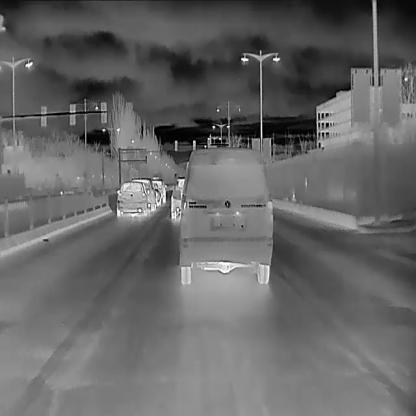car: (170, 146, 274, 284), (115, 180, 150, 218), (128, 176, 156, 212), (169, 174, 187, 218), (150, 177, 166, 203), (151, 181, 162, 206)
